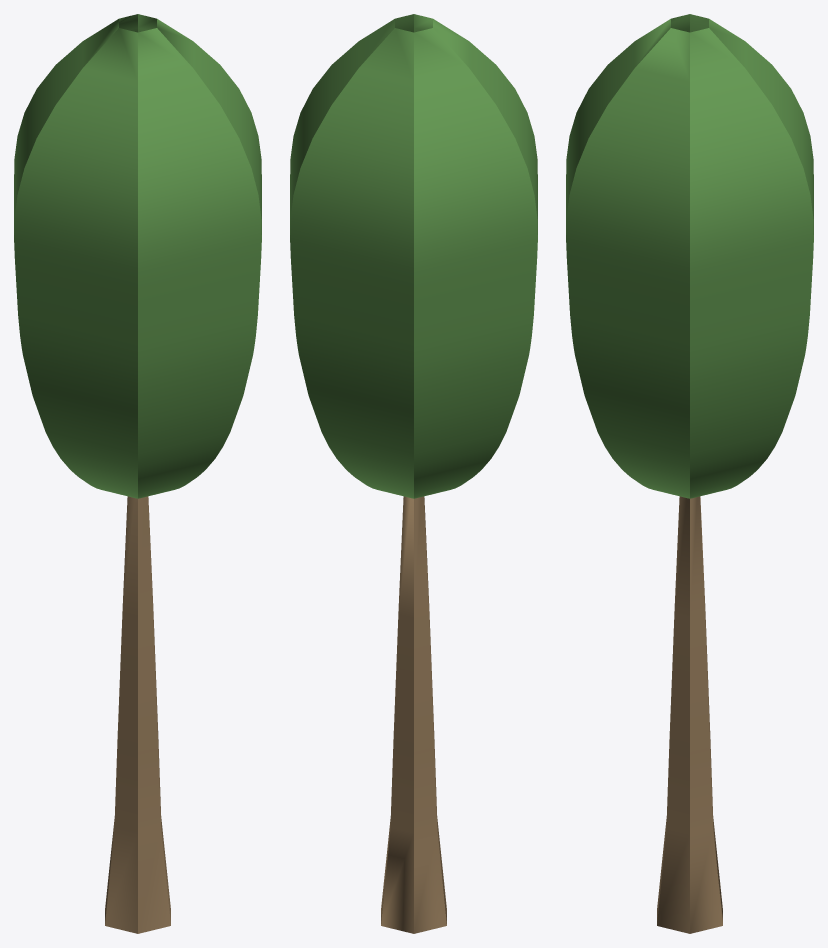
Rendered from tree.3.fbx.
3 renders of one model, left to right at view 1: azimuth 30°, elevation 25°; view 2: azimuth 150°, elevation 25°; view 3: azimuth 270°, elevation 25°, orthographic.
Parts seen in each view (by area): view 1: tree; view 2: tree; view 3: tree.
Boxes of the visible parts, x1=… form: tree: x1=14, y1=14, x2=261, y2=933; tree: x1=290, y1=14, x2=537, y2=933; tree: x1=566, y1=14, x2=813, y2=933.
Bounding box in the file's own units: 166 × 572 × 144.
